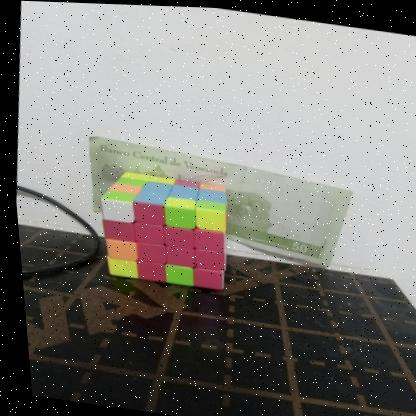fifty-back-vef: (74, 133, 356, 267)
